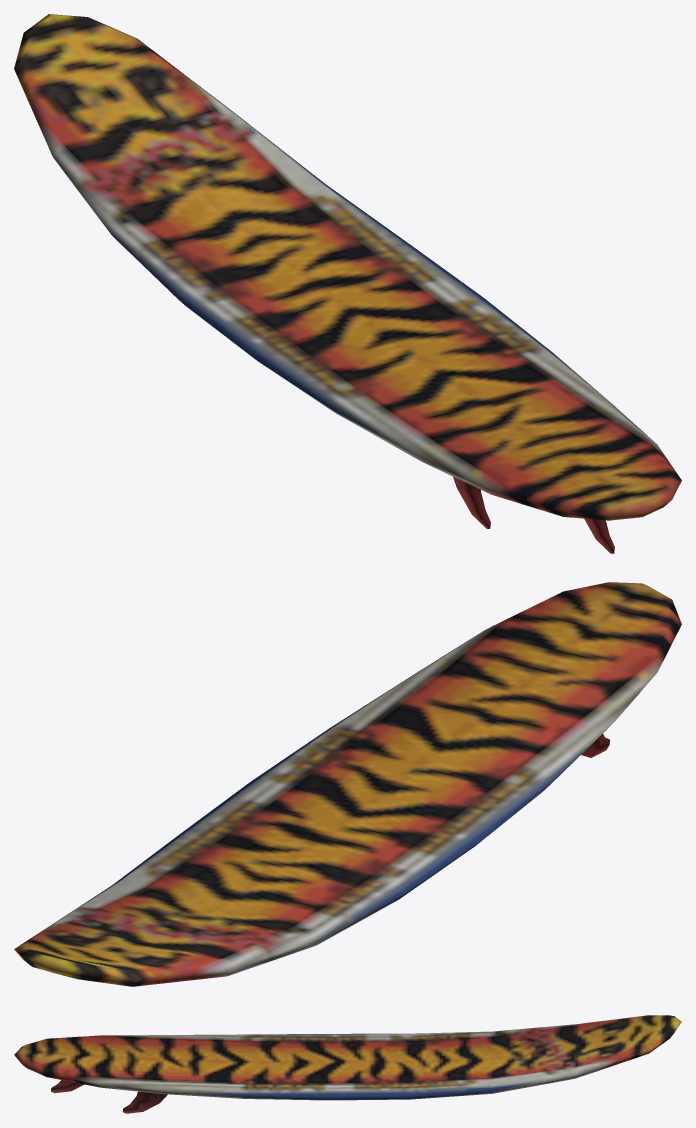
File: hbxz_wj016_05.FBX
3 views of the same model, one above another, from view 1: azimuth 30°, elevation 25°; view 2: azimuth 150°, elevation 25°; view 3: azimuth 270°, elevation 25° (orthographic). The views are drawn at different scales.
Parts seen in each view (by area): view 1: hbxz_wj016_05; view 2: hbxz_wj016_05; view 3: hbxz_wj016_05.
Boxes of the visible parts, bbox=[...] form: hbxz_wj016_05: bbox=[14, 14, 681, 553]; hbxz_wj016_05: bbox=[14, 582, 681, 986]; hbxz_wj016_05: bbox=[14, 1015, 681, 1113].
Bounding box in the file's own units: 43.82 × 24.87 × 195.
Materials: 1 (1 with a texture image).
